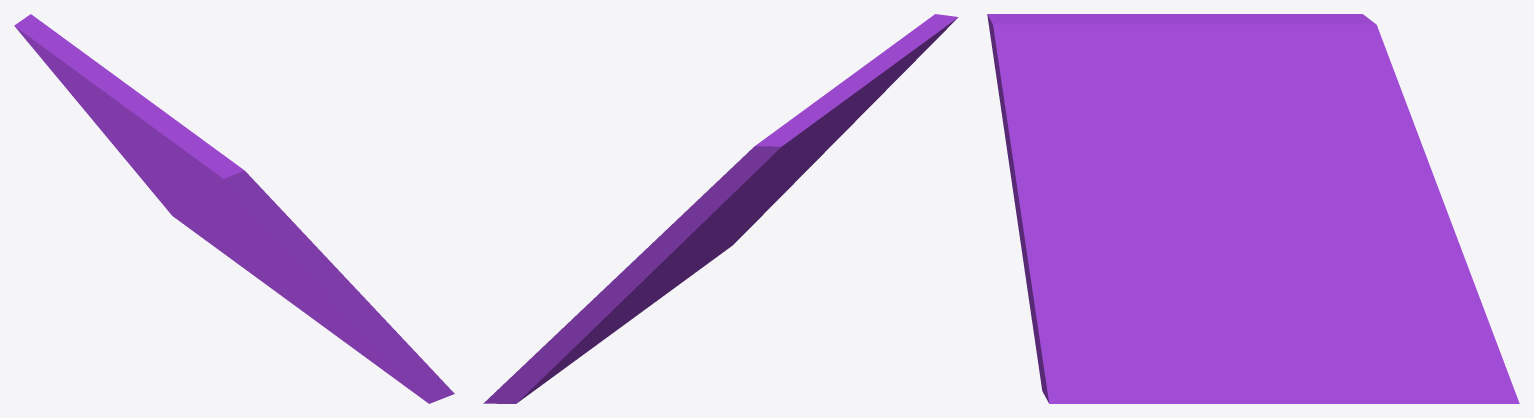
The model's file is Window_73.fbx.
The picture shows the model from 3 angles, left to right: view 1: azimuth 30°, elevation 25°; view 2: azimuth 150°, elevation 25°; view 3: azimuth 270°, elevation 25°; orthographic projection. The views are drawn at different scales.
Visible parts, largest first — view 1: Window_73; view 2: Window_73; view 3: Window_73.
Part boxes in pixels (x1,y1,x2,y2): Window_73: [14, 14, 454, 403]; Window_73: [483, 14, 958, 403]; Window_73: [987, 14, 1519, 403].
Size of the model in its own units: 756 by 829 by 1463.
